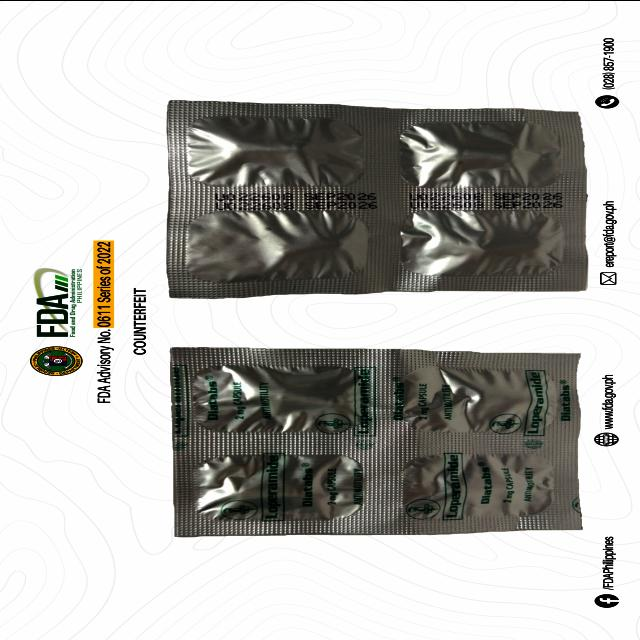counterfeit: (167, 107, 577, 300), (168, 349, 580, 534)
